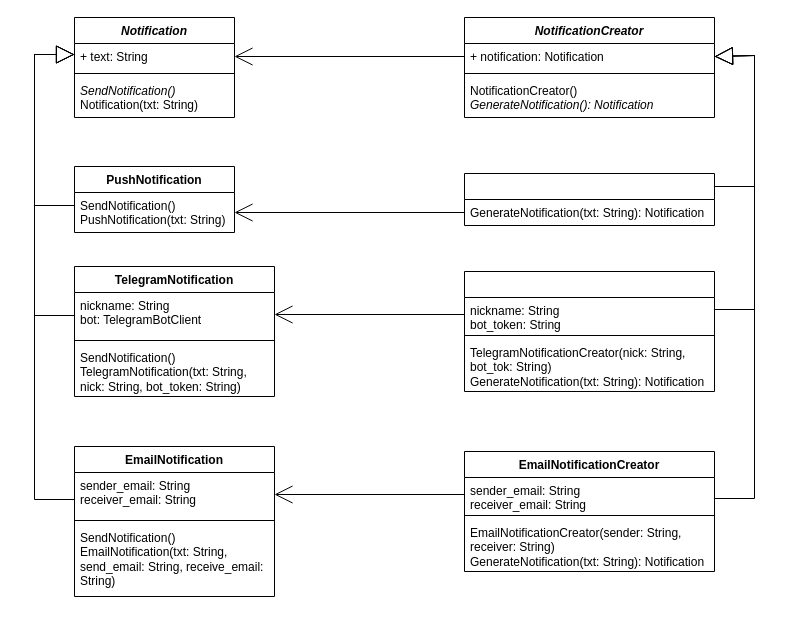
Some shapes in this 790 by 617 pixel diagram are drawn without their labels. Here are the shapes that lost their labels. From the top down, the box of each, then its label:
(464, 172, 714, 226): PushNotificationCreator
(464, 270, 714, 392): TelegaramNotificationCreator
